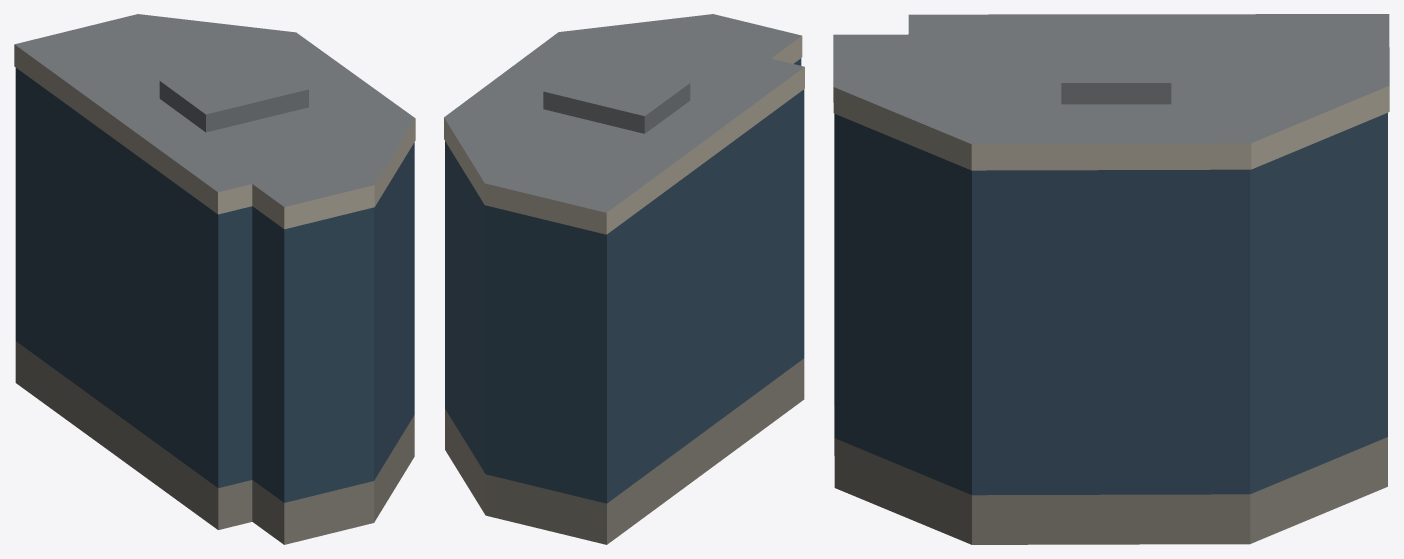
Rendered from 257_east_200_south.glb.
3 renders of one model, left to right at view 1: azimuth 30°, elevation 25°; view 2: azimuth 150°, elevation 25°; view 3: azimuth 270°, elevation 25°, orthographic. The views are drawn at different scales.
Visible parts, largest first — view 1: 257_East_200_South; view 2: 257_East_200_South; view 3: 257_East_200_South.
Boxes of the visible parts, box(x1,y1,x2,y2) form: 257_East_200_South: box(14, 14, 415, 544); 257_East_200_South: box(444, 14, 804, 544); 257_East_200_South: box(833, 14, 1389, 544).
Bounding box in the file's own units: 39.27 × 59.4 × 70.91.
